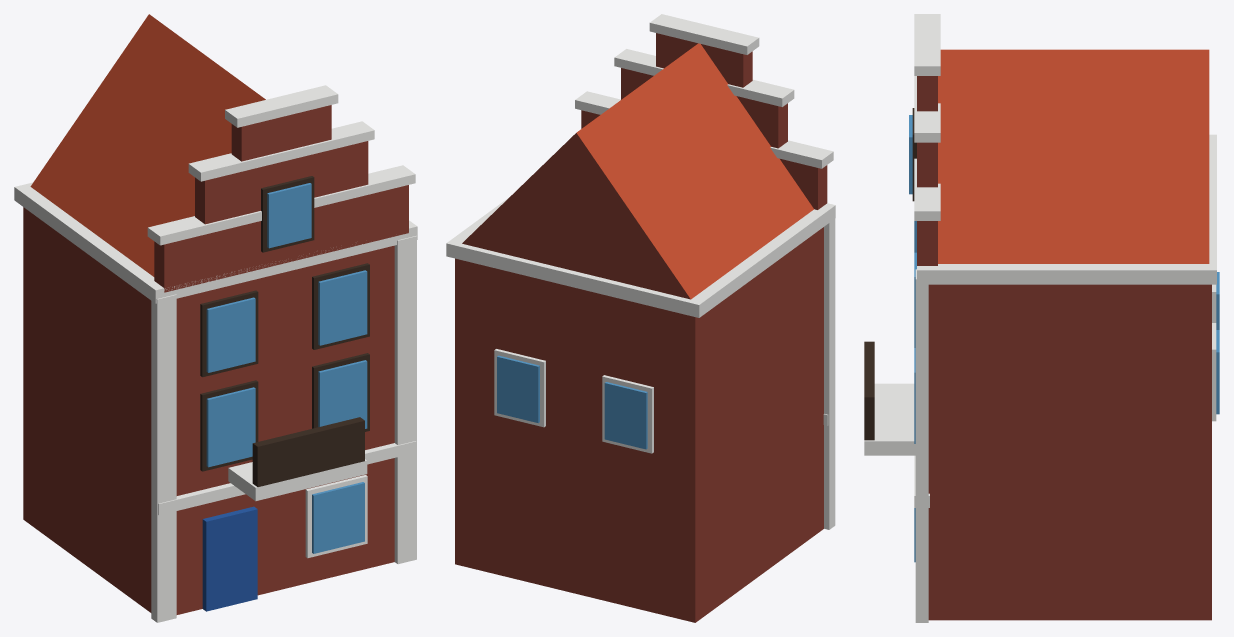
Rendered from 42_kgd_brick_balcony_2.obj.
The picture shows the model from 3 angles, left to right: view 1: azimuth 30°, elevation 25°; view 2: azimuth 150°, elevation 25°; view 3: azimuth 270°, elevation 25°; orthographic projection. The views are drawn at different scales.
Parts seen in each view (by area): view 1: 42_kgd_brick_balcony_2; view 2: 42_kgd_brick_balcony_2; view 3: 42_kgd_brick_balcony_2.
Part boxes in pixels (box(x1,y1,x2,y2)): 42_kgd_brick_balcony_2: box(14, 14, 417, 622); 42_kgd_brick_balcony_2: box(446, 14, 835, 622); 42_kgd_brick_balcony_2: box(864, 14, 1219, 622).
Size of the model in its own units: 1.22 by 2.16 by 1.35.
